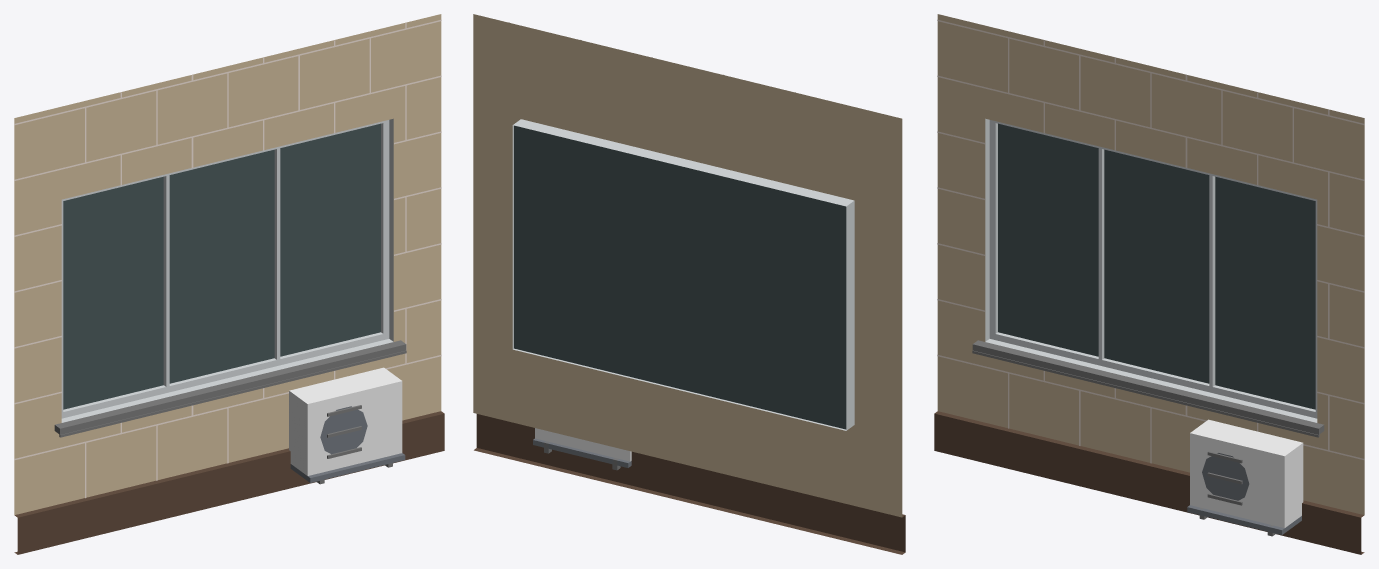
The model's file is mid-w1_close.fbx.
3 views of the same model, side by side, from view 1: azimuth 30°, elevation 25°; view 2: azimuth 150°, elevation 25°; view 3: azimuth 330°, elevation 25° (orthographic).
Parts seen in each view (by area): view 1: a2009/200/mid-w1_close; view 2: a2009/200/mid-w1_close; view 3: a2009/200/mid-w1_close.
Boxes of the visible parts, bbox=[...] form: a2009/200/mid-w1_close: bbox=[14, 14, 444, 554]; a2009/200/mid-w1_close: bbox=[473, 14, 905, 554]; a2009/200/mid-w1_close: bbox=[934, 14, 1364, 554].
Bounding box in the file's own units: 3.6 × 3.5 × 0.46.
